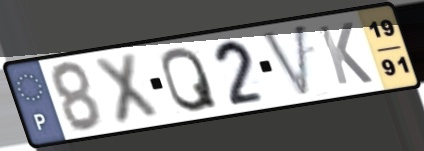2: (209, 35, 272, 111)
8: (50, 59, 105, 136)
K: (315, 20, 376, 88)
Q: (159, 44, 221, 115)
V: (259, 20, 312, 100)
X: (90, 49, 163, 128)
